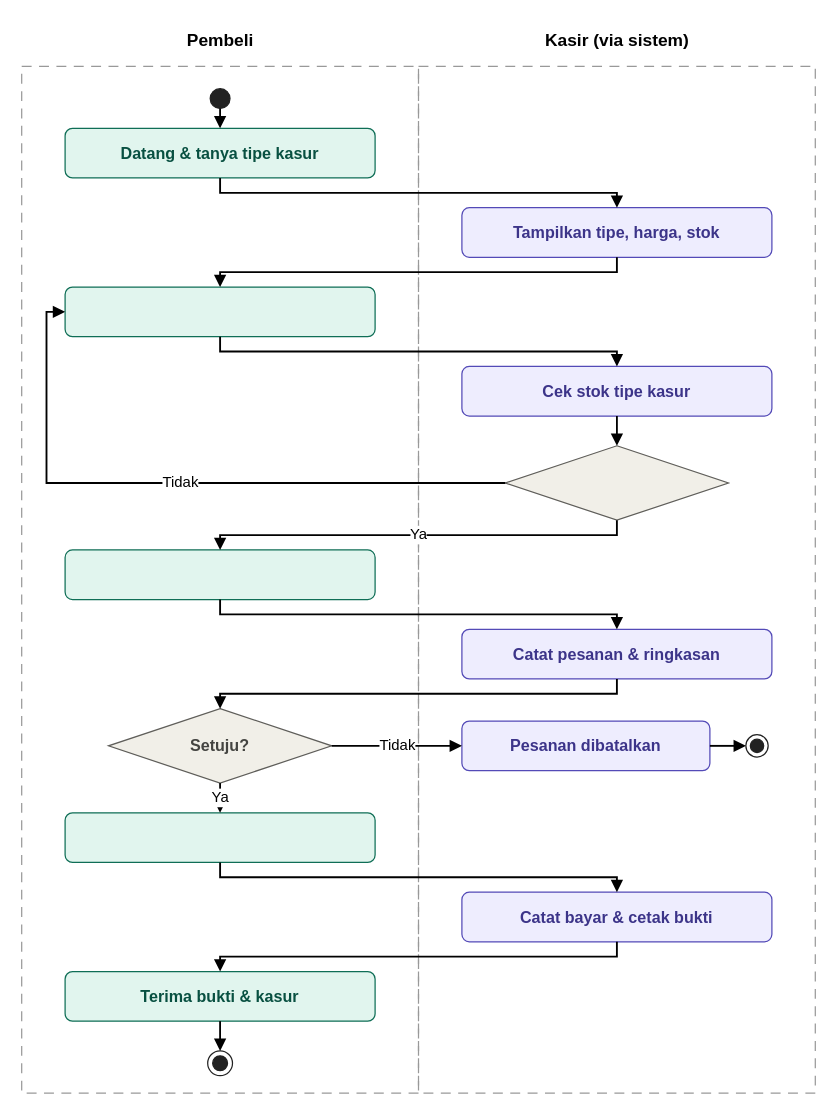
The diagram is 837 pixels wide and 1115 high, and some of its shapes have lost their labels. Each missing label, with the centre of its shape:
"Berikan data & alamat kirim" goes at [219,574].
"Pilih metode & bayar" goes at [219,837].
"Pilih tipe kasur & jumlah" goes at [219,311].
"Stok cukup?" goes at [616,482].
